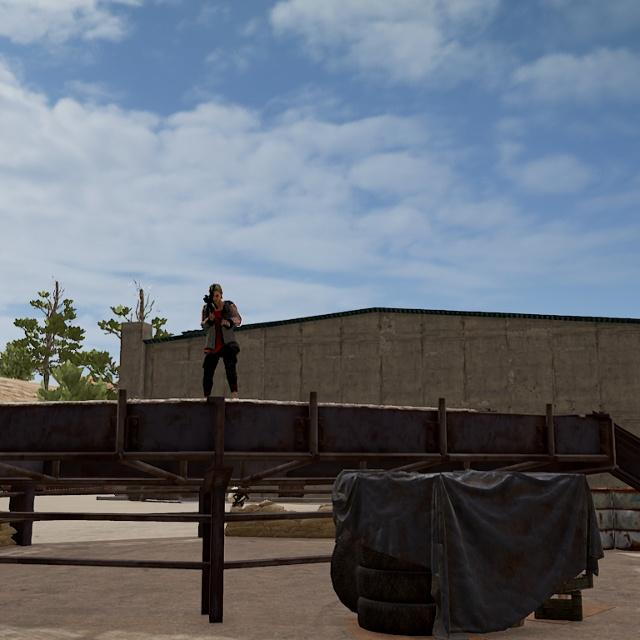head: (208, 284, 223, 305)
people: (199, 282, 242, 400)
